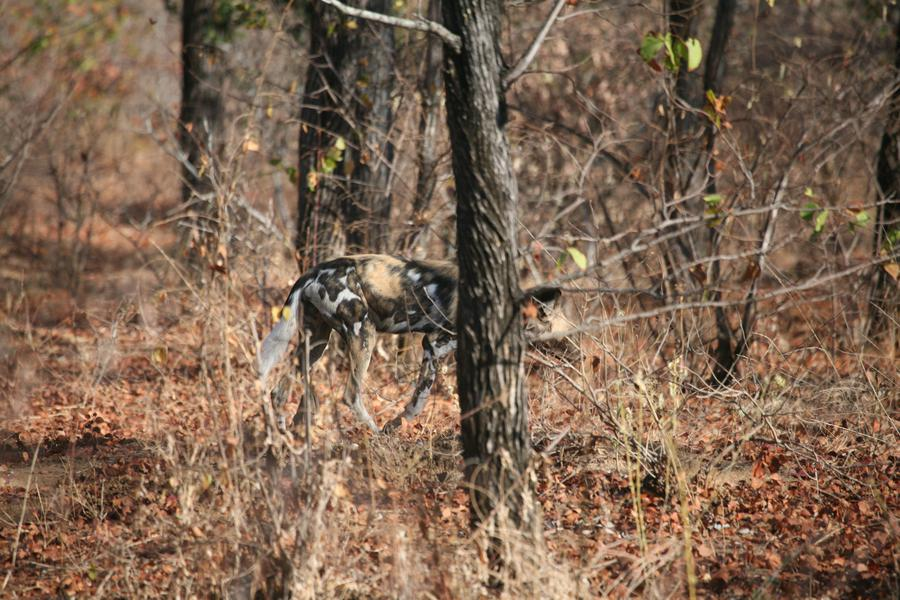wilddog: (264, 253, 458, 395)
